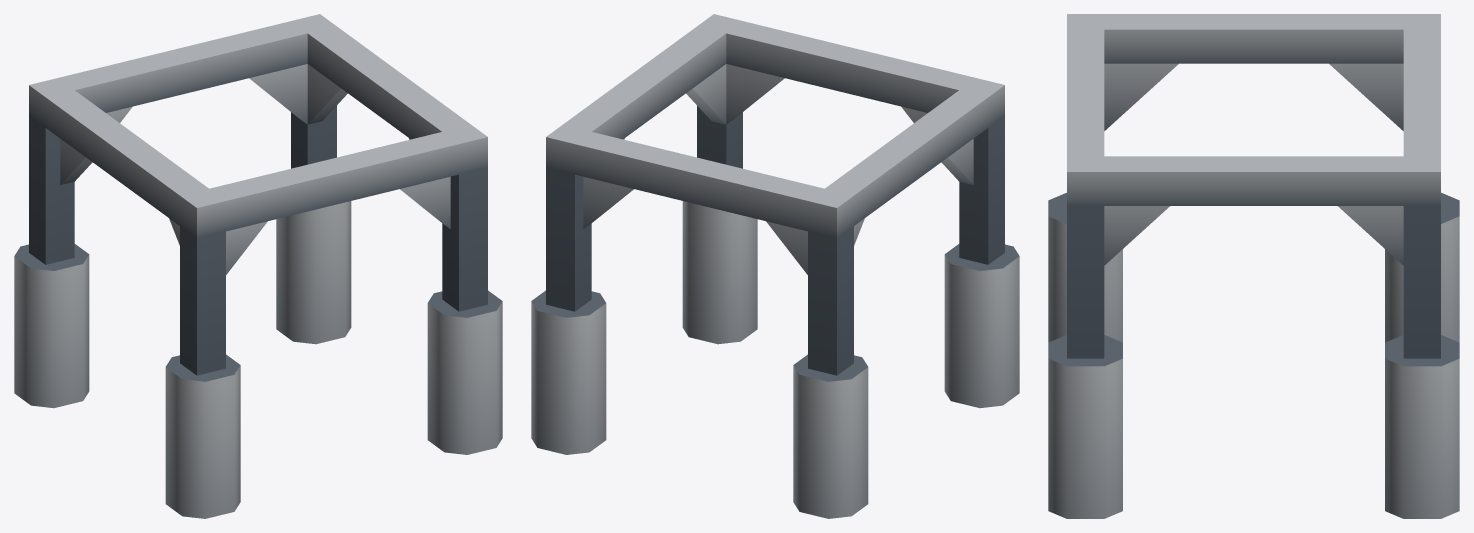
Rendered from structure-barrier-high.glb.
3 renders of one model, left to right at view 1: azimuth 30°, elevation 25°; view 2: azimuth 150°, elevation 25°; view 3: azimuth 270°, elevation 25°, orthographic. The views are drawn at different scales.
Parts seen in each view (by area): view 1: Group; view 2: Group; view 3: Group.
Part boxes in pixels (left/top/right/bottom): Group: left=14, top=14, right=502, bottom=518; Group: left=531, top=14, right=1019, bottom=518; Group: left=1048, top=14, right=1459, bottom=518.
Size of the model in its own units: 1.1 by 1 by 1.1.
